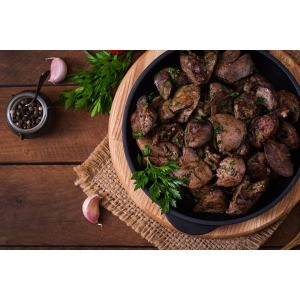liver_brain food: (142, 64, 282, 192)
